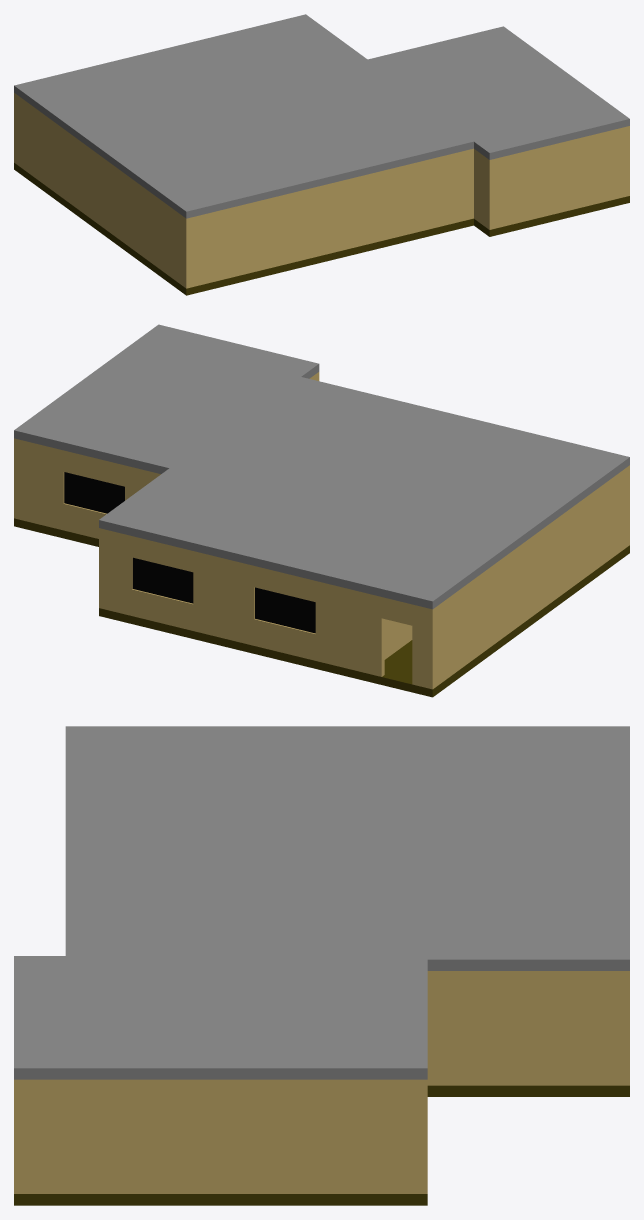
File: house design 2.fbx
3 views of the same model, one above another, from view 1: azimuth 30°, elevation 25°; view 2: azimuth 150°, elevation 25°; view 3: azimuth 270°, elevation 25° (orthographic). The views are drawn at different scales.
Parts seen in each view (by area): view 1: walls, floor; view 2: walls, floor, wendos; view 3: walls, floor.
Boxes of the visible parts, left/top/right/bottom form: walls: left=14, top=14, right=629, bottom=288; floor: left=14, top=163, right=629, bottom=295; walls: left=14, top=324, right=629, bottom=689; floor: left=14, top=518, right=629, bottom=697; wendos: left=64, top=472, right=315, bottom=633; walls: left=14, top=726, right=629, bottom=1193; floor: left=14, top=1085, right=629, bottom=1205.
Size of the model in its own units: 19.2 by 14.62 by 3.6.
